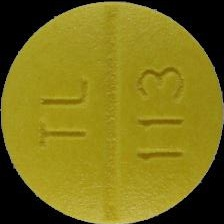59746-113: (0, 0, 224, 224)
